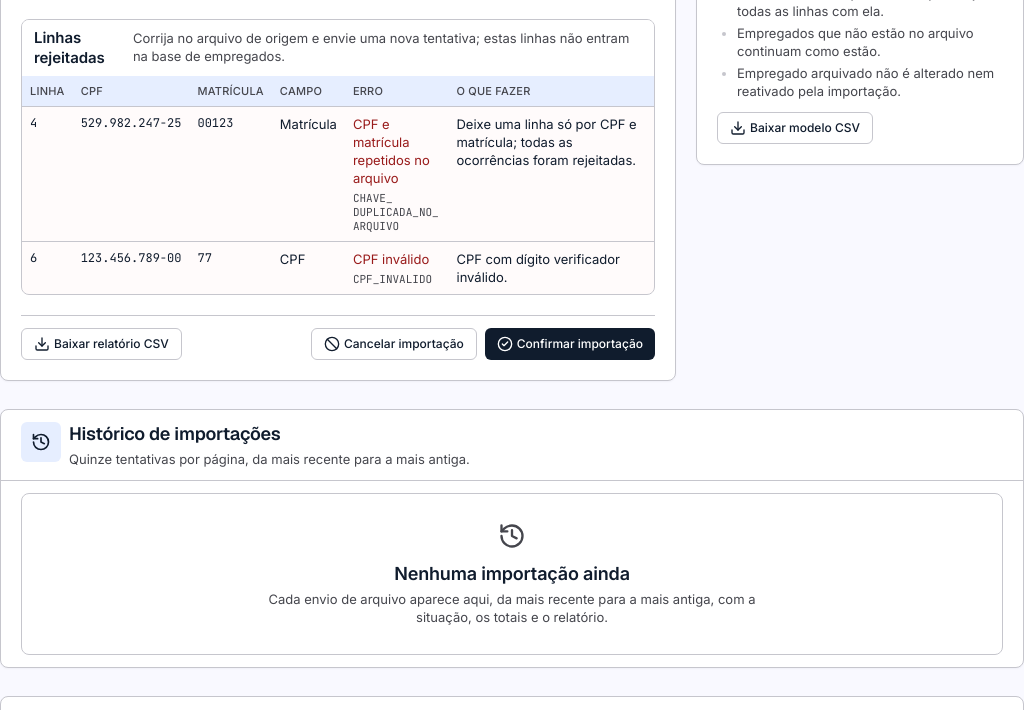
Test: prévia › o diálogo de confirmação nomeia a empresa e os números da decisão
(page scrolled)
Click the button "Confirmar importação" at [570, 344], box left=485, top=328, right=655, bottom=360
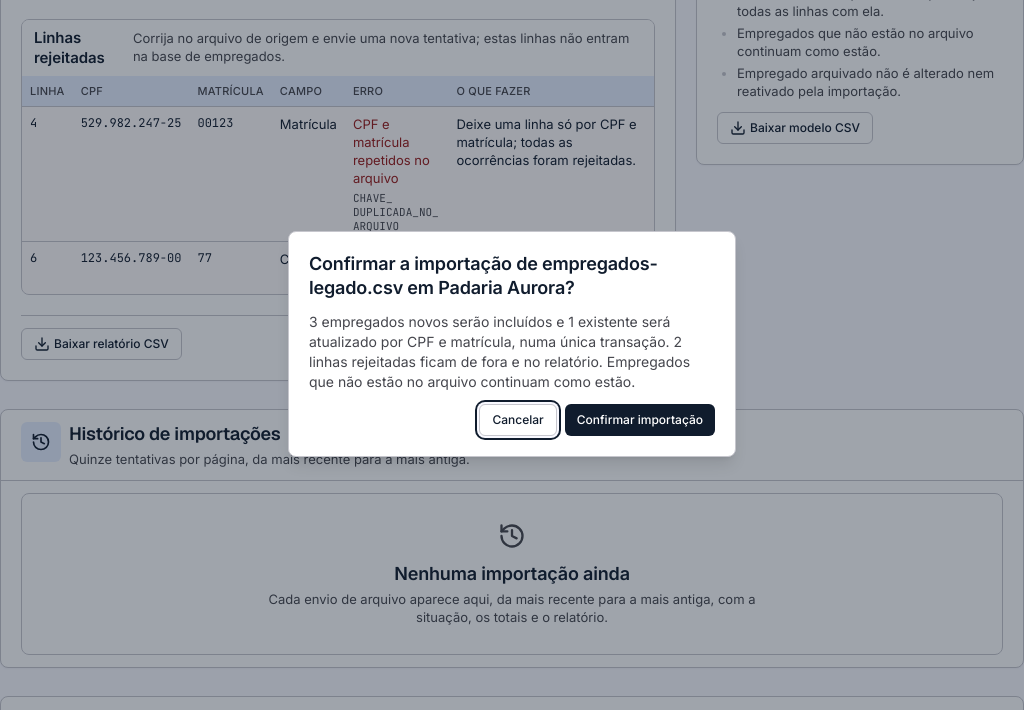
Expected: the dialog shows "Confirmar a importação de empregados-legado.csv em Padaria Aurora?", left=309, top=253, right=658, bottom=298
Expected: the dialog shows "3 empregados novos serão incluídos e 1 existente será atualizado por CPF e matrícula", left=309, top=313, right=690, bottom=390
Expected: the dialog shows "2 linhas rejeitadas ficam de fora e no relatório.", left=309, top=313, right=690, bottom=390
